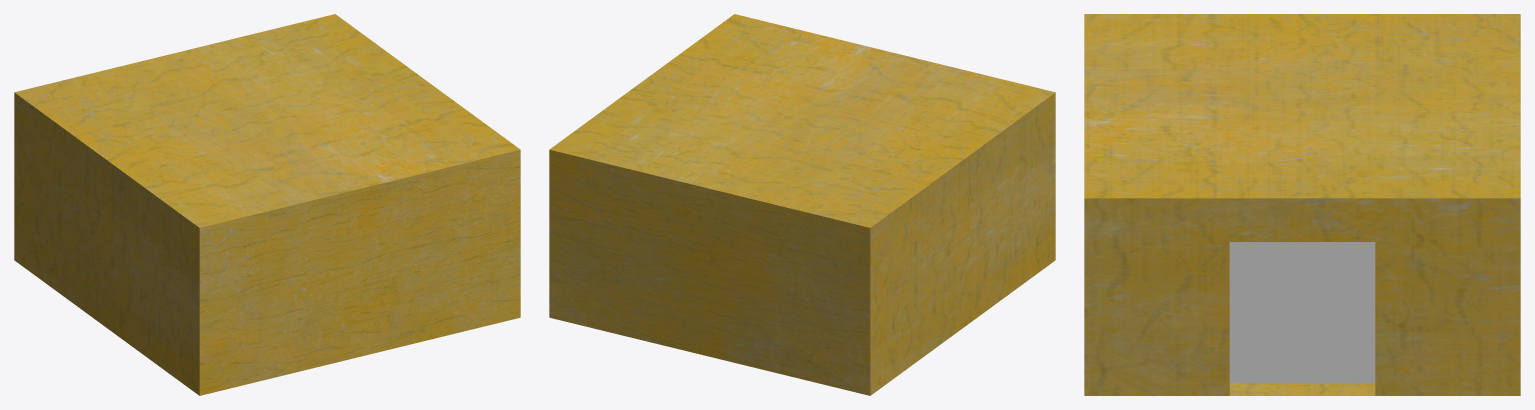
File: predio12.fbx
3 views of the same model, side by side, from view 1: azimuth 30°, elevation 25°; view 2: azimuth 150°, elevation 25°; view 3: azimuth 270°, elevation 25° (orthographic). The views are drawn at different scales.
Visible parts, largest first — view 1: Cube; view 2: Cube; view 3: Cube.
Part boxes in pixels (x1,y1,x2,y2): Cube: [14, 14, 520, 395]; Cube: [549, 14, 1055, 395]; Cube: [1084, 14, 1520, 395].
Bounding box in the file's own units: 1667 × 833 × 1667.
